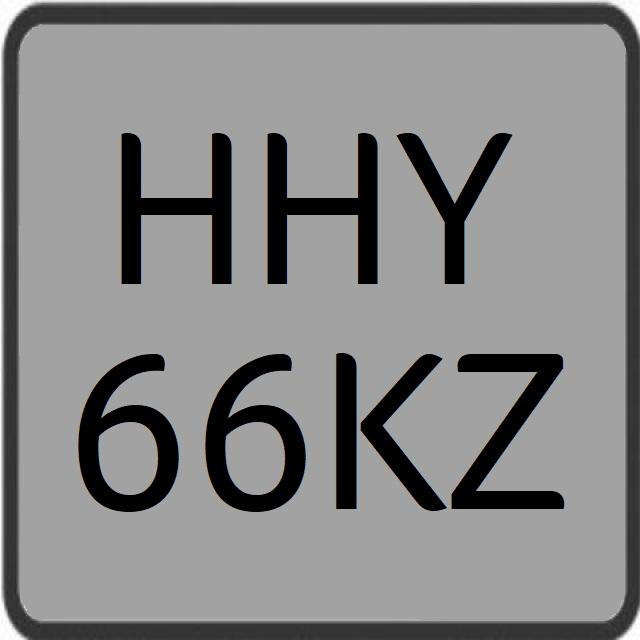6: (74, 334, 182, 527)
H: (105, 117, 239, 301), (260, 112, 382, 293)
K: (334, 340, 447, 522)
Y: (394, 106, 514, 296)
Z: (446, 326, 572, 524)
